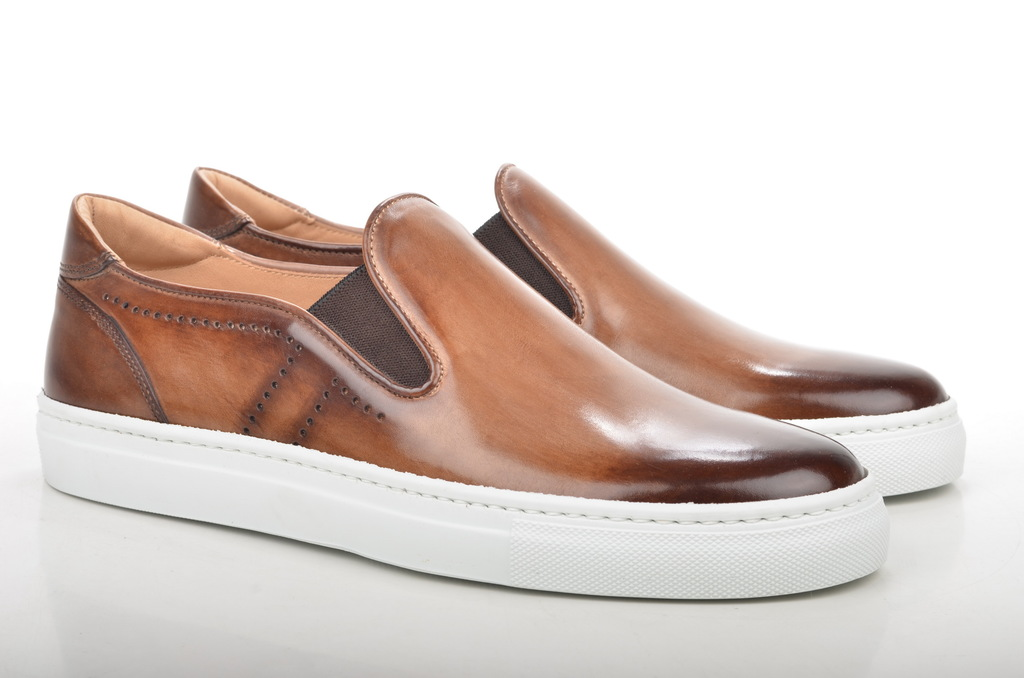Footwear: (31, 185, 883, 610), (180, 157, 968, 500)
